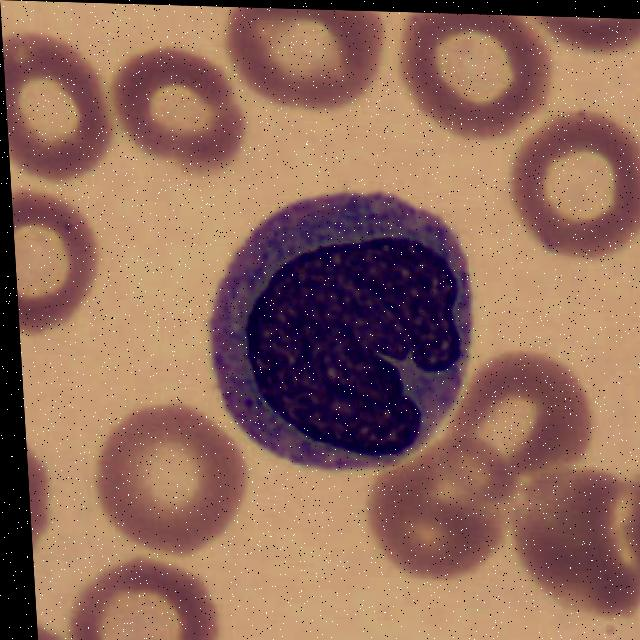monocyte: (180, 170, 495, 494)
rbc: (88, 397, 259, 551), (454, 334, 596, 486), (380, 428, 524, 577), (388, 11, 554, 140), (497, 106, 640, 255), (206, 6, 395, 118), (11, 178, 120, 346), (2, 26, 116, 182), (522, 469, 640, 614), (119, 51, 243, 174), (61, 543, 218, 640)
